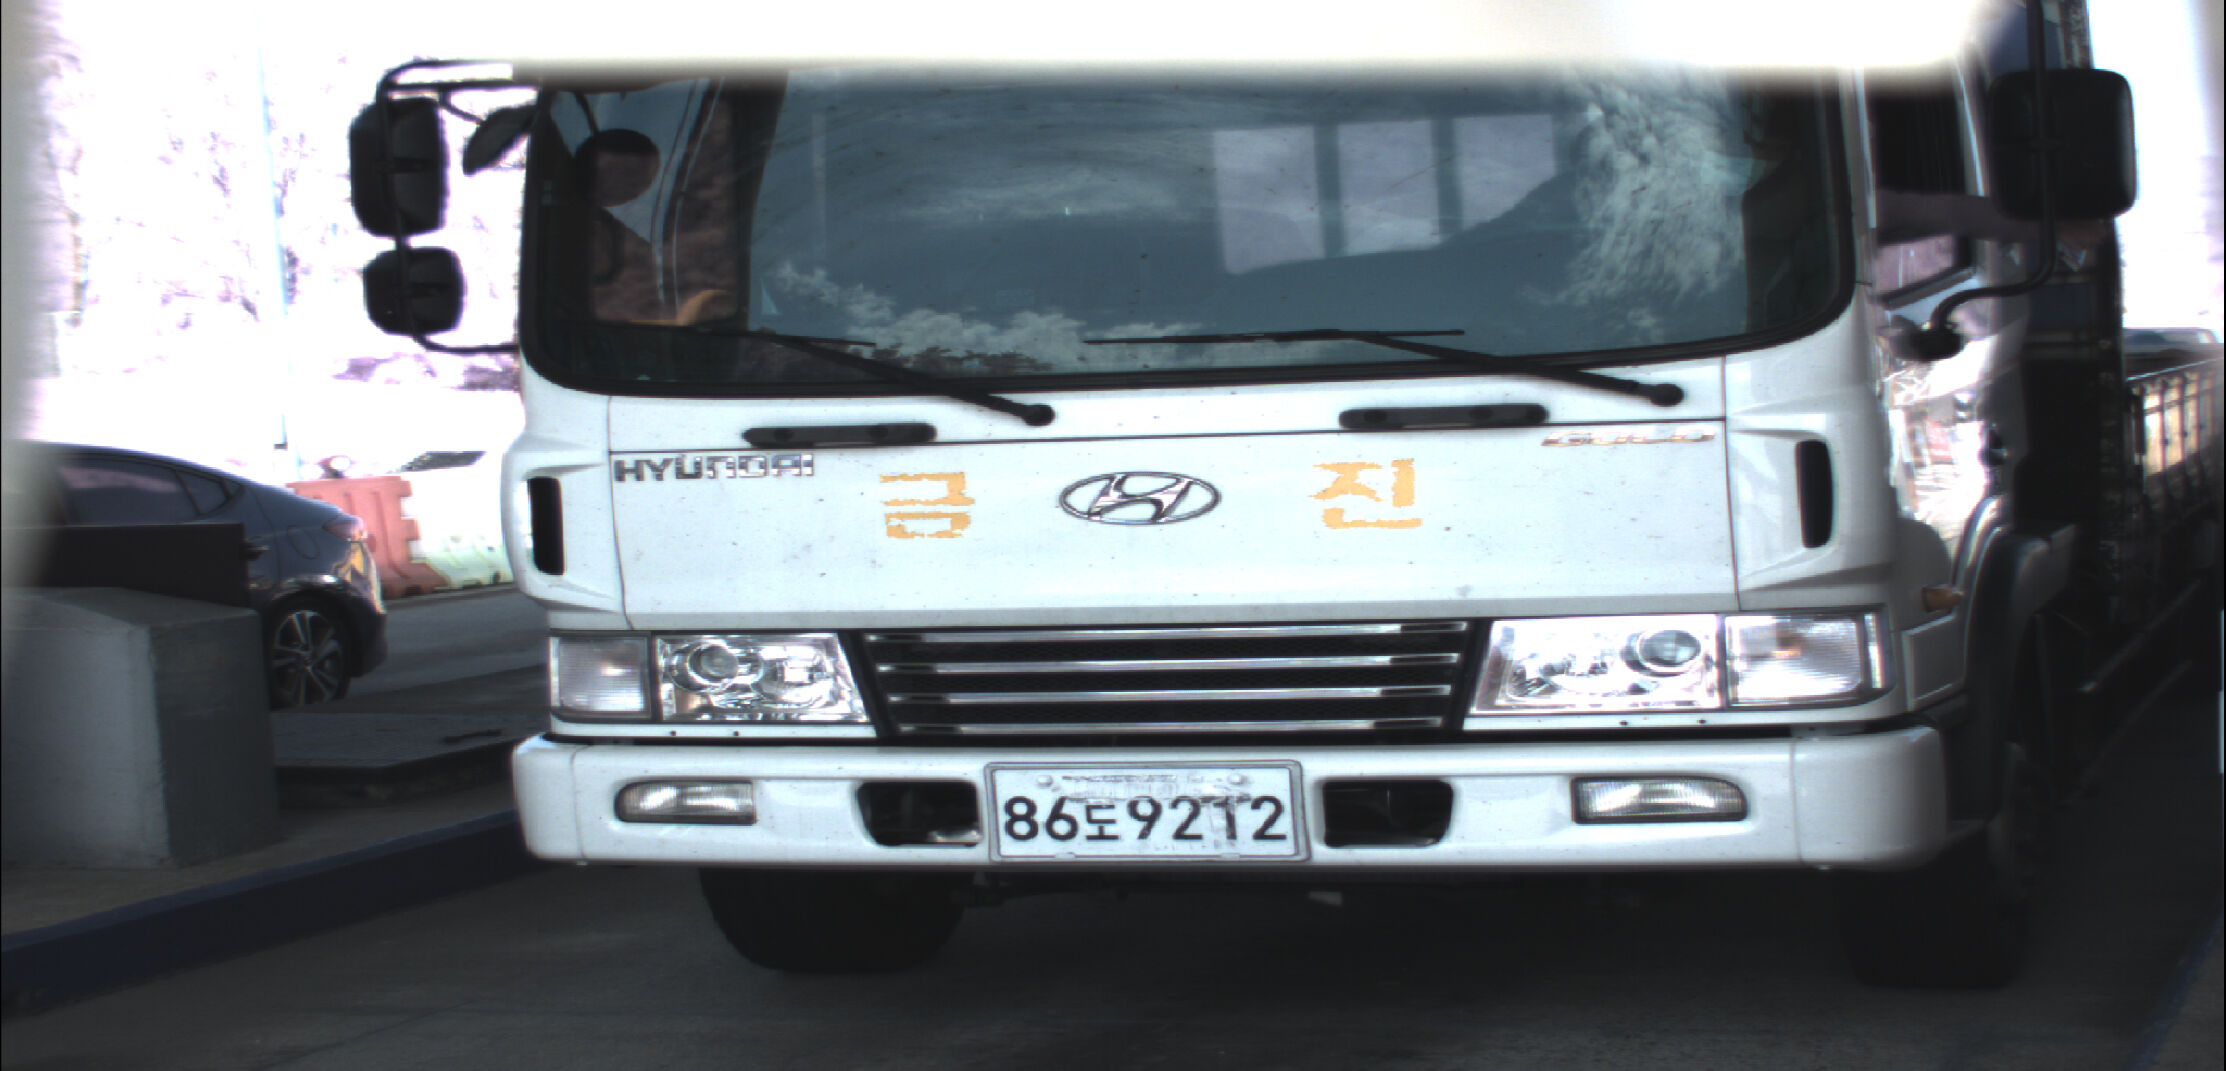car: (340, 54, 2226, 988)
plate: (982, 758, 1318, 866)
